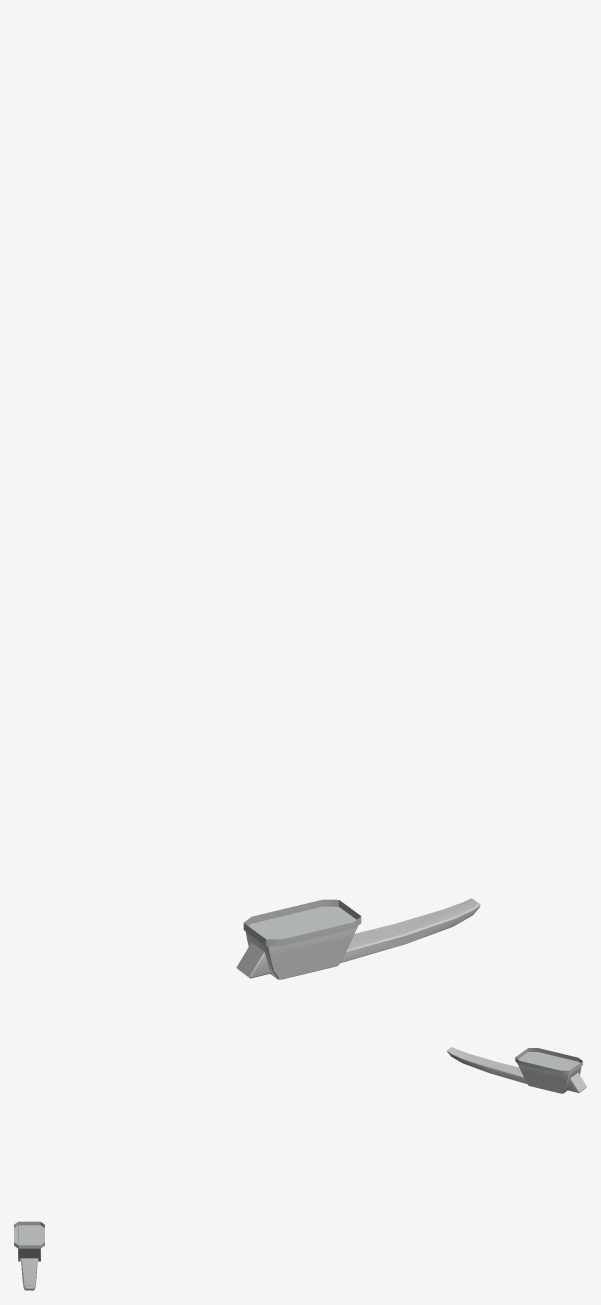
Rendered from MeshFridgeMaindoorB4_4_GeomSubset_1.obj.
3 views of the same model, one above another, from view 1: azimuth 30°, elevation 25°; view 2: azimuth 150°, elevation 25°; view 3: azimuth 270°, elevation 25° (orthographic). The views are drawn at different scales.
Visible parts, largest first — view 1: MeshFridgeMaindoorB4_4_GeomSubset_1; view 2: MeshFridgeMaindoorB4_4_GeomSubset_1; view 3: MeshFridgeMaindoorB4_4_GeomSubset_1.
Part boxes in pixels (x1,y1,x2,y2): MeshFridgeMaindoorB4_4_GeomSubset_1: (236, 898, 480, 979); MeshFridgeMaindoorB4_4_GeomSubset_1: (447, 1047, 586, 1093); MeshFridgeMaindoorB4_4_GeomSubset_1: (14, 1221, 44, 1290).
Bounding box in the file's own units: 0.4717 × 0.4684 × 1.08.
